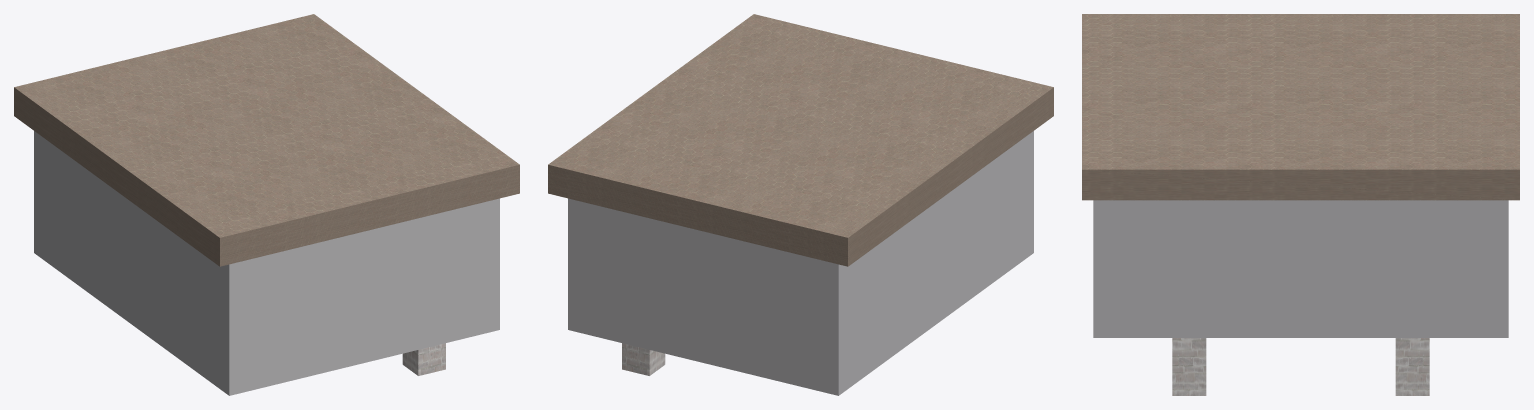
The model's file is Lobby.fbx.
3 renders of one model, left to right at view 1: azimuth 30°, elevation 25°; view 2: azimuth 150°, elevation 25°; view 3: azimuth 270°, elevation 25°, orthographic. The views are drawn at different scales.
Visible parts, largest first — view 1: Cube.001, Cube, Cube.002; view 2: Cube.001, Cube, Cube.002; view 3: Cube.001, Cube, Cube.002.
Part boxes in pixels (x1,y1,x2,y2): Cube.001: (14, 14, 519, 266); Cube: (34, 131, 499, 395); Cube.002: (402, 343, 445, 375); Cube.001: (548, 14, 1053, 266); Cube: (568, 131, 1033, 395); Cube.002: (622, 343, 665, 375); Cube.001: (1082, 14, 1519, 200); Cube: (1093, 200, 1508, 337); Cube.002: (1172, 338, 1429, 395).
Size of the model in its own units: 2178 by 1582 by 2588.
Materials: 11 (8 with a texture image).
